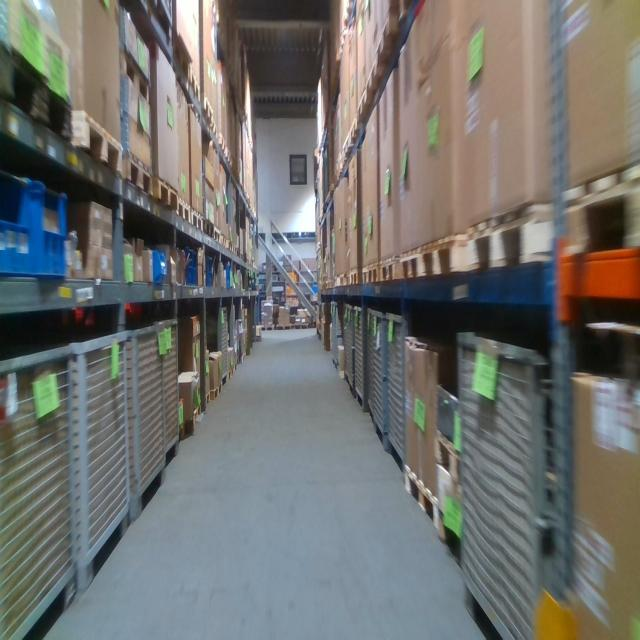pallet: (565, 161, 638, 255), (468, 199, 559, 273), (73, 109, 123, 173), (420, 230, 470, 283), (403, 465, 439, 533), (434, 425, 463, 489), (125, 159, 153, 192), (154, 177, 178, 209), (401, 246, 419, 288), (183, 402, 201, 435), (381, 253, 400, 284), (366, 259, 382, 285), (179, 198, 191, 225), (203, 93, 213, 125), (208, 380, 222, 400), (192, 207, 203, 232), (200, 388, 209, 412), (348, 267, 359, 286), (212, 226, 221, 247), (293, 321, 310, 329), (220, 133, 226, 154), (361, 265, 366, 288), (276, 323, 292, 329), (228, 367, 235, 380), (260, 325, 274, 331)
small_load_carrier: (33, 173, 70, 280), (2, 163, 35, 278), (179, 248, 194, 287), (204, 253, 213, 289), (225, 262, 232, 293), (194, 251, 198, 290)
stillage: (452, 324, 563, 639), (2, 342, 71, 639), (68, 326, 137, 594), (125, 322, 169, 537), (383, 311, 412, 491), (154, 315, 180, 491), (371, 309, 387, 451), (141, 1, 174, 41), (354, 304, 365, 412), (366, 306, 375, 424), (217, 303, 228, 389), (341, 299, 349, 380), (348, 302, 354, 391), (334, 303, 341, 375), (330, 300, 334, 370)
